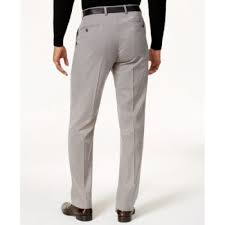F_belt: (78, 2, 146, 23)
